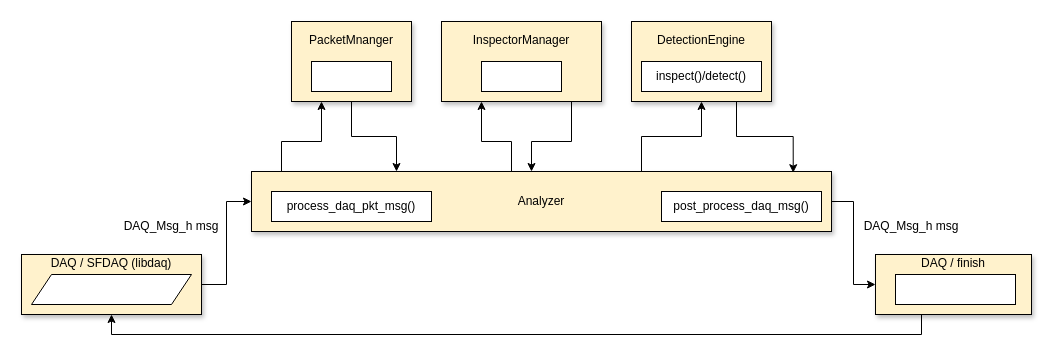
The diagram is 1055 pixels wide and 360 high, and some of its shapes have lost their labels. Here are the shapes that lost their labels. From the top down, the centre of each, then its label:
At [351,76]: "decode()".
At [521,76]: "execute()".
At [111,289]: "receive_message()".
At [955,289]: "finalize_message()".
